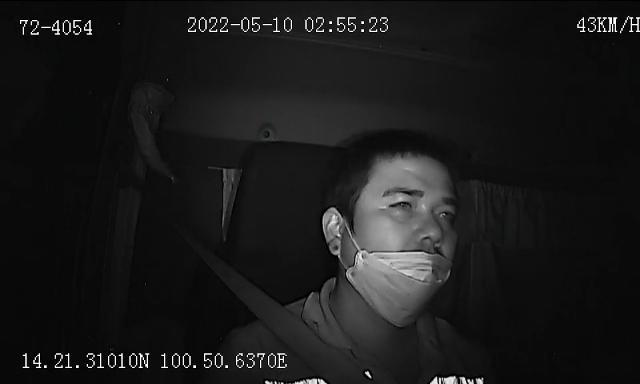SafeDriving: (382, 193, 418, 216), (430, 200, 460, 225)
Seatbelt: (200, 246, 374, 384)
